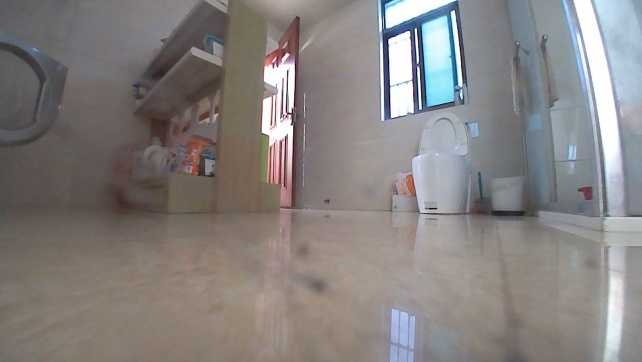door_anno: (267, 15, 302, 208)
toilet: (410, 107, 474, 215)
